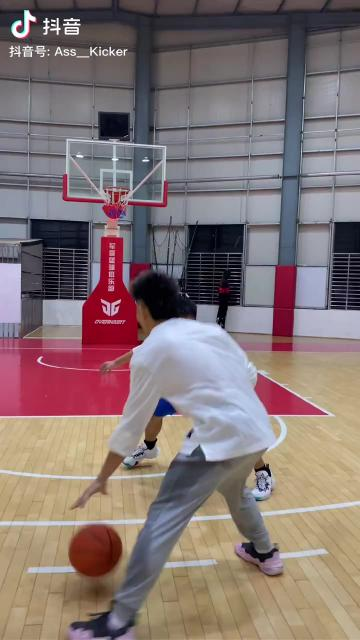ball: (68, 522, 124, 576)
basket: (102, 187, 131, 210)
